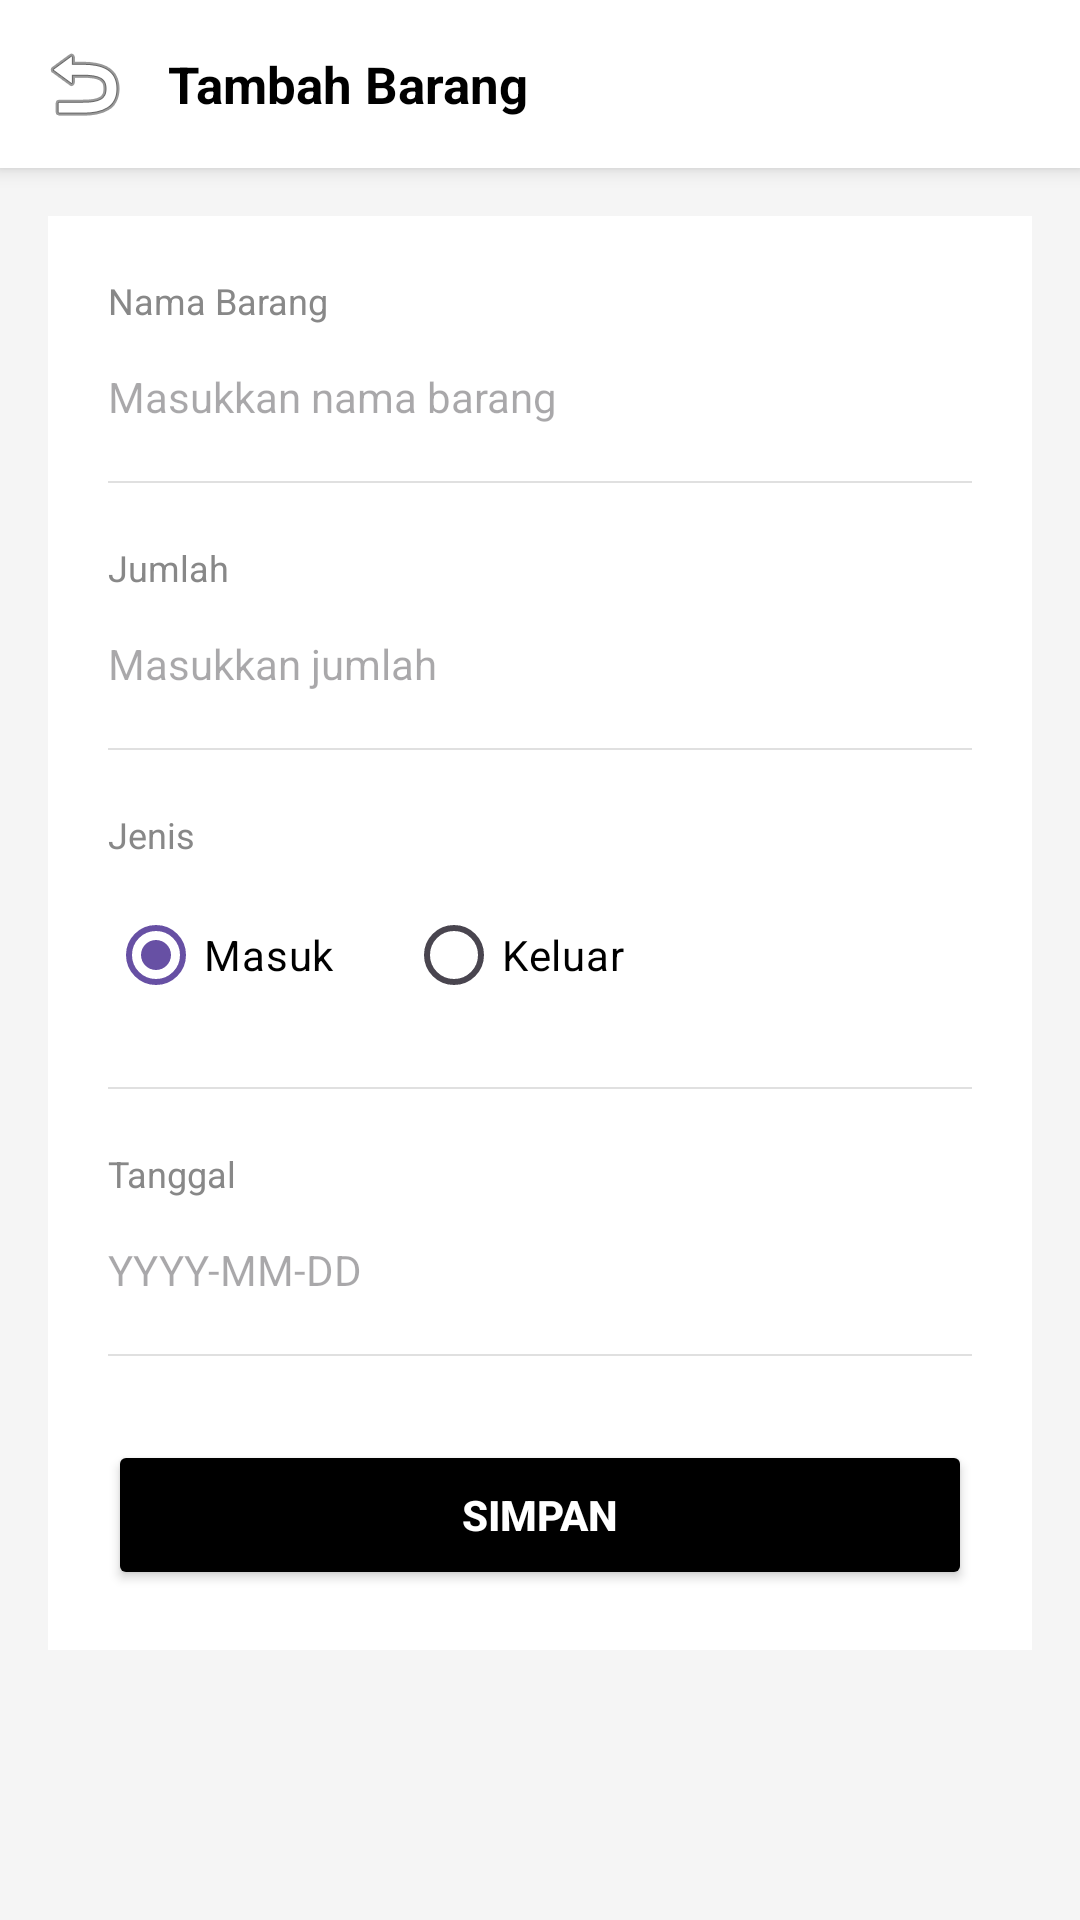

Point at icon controls on the screen. Image size 1080px x 1920px, points as point (x, y).
Kembali: point (85, 84)
